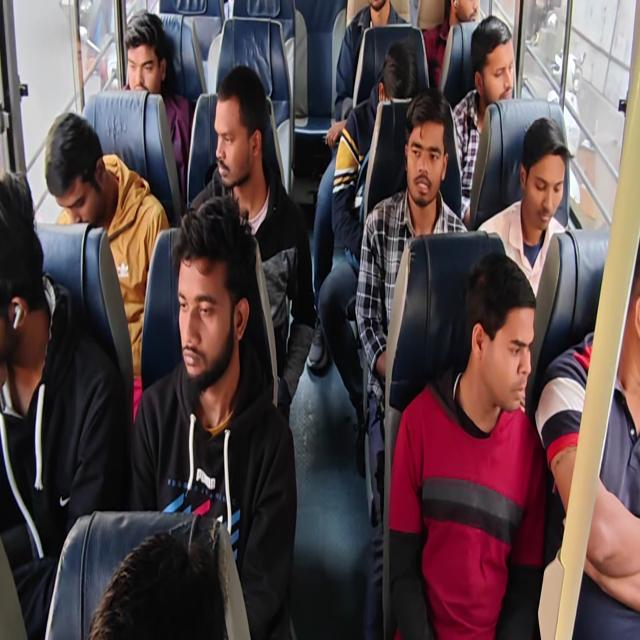person: (1, 1, 638, 638), (130, 194, 298, 638), (355, 87, 469, 637), (387, 251, 548, 638), (0, 170, 130, 638), (188, 65, 316, 424), (317, 41, 419, 471), (535, 241, 639, 638), (44, 111, 170, 422), (330, 41, 418, 259), (477, 116, 572, 299), (88, 522, 228, 639), (120, 9, 192, 202), (452, 15, 516, 224), (325, 0, 410, 152), (422, 0, 479, 89)
